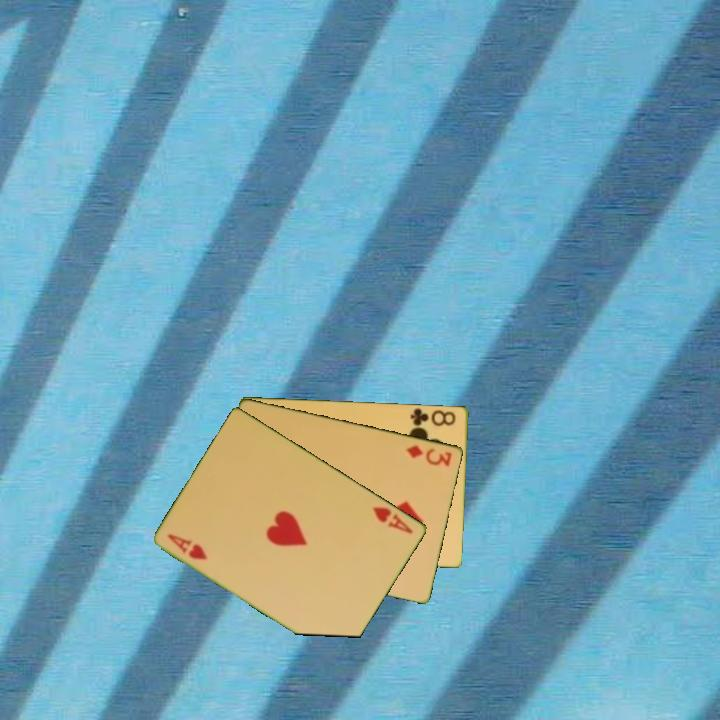3d: (403, 441, 455, 469)
8c: (407, 405, 458, 430)
Ah: (369, 503, 416, 536), (164, 530, 210, 563)
